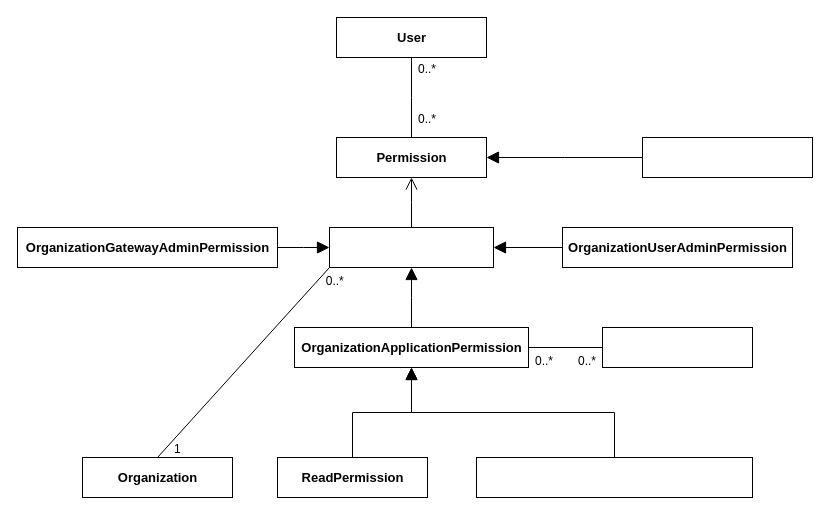
Image size: 830x515. Some labels were removed from this diagram. Each missing label, with the box of its shape:
Application: (602, 326, 752, 368)
GlobalAdminPermission: (642, 136, 812, 178)
OrganizationApplicationAdminPermission: (476, 456, 752, 498)
OrganizationPermission: (328, 226, 494, 268)
